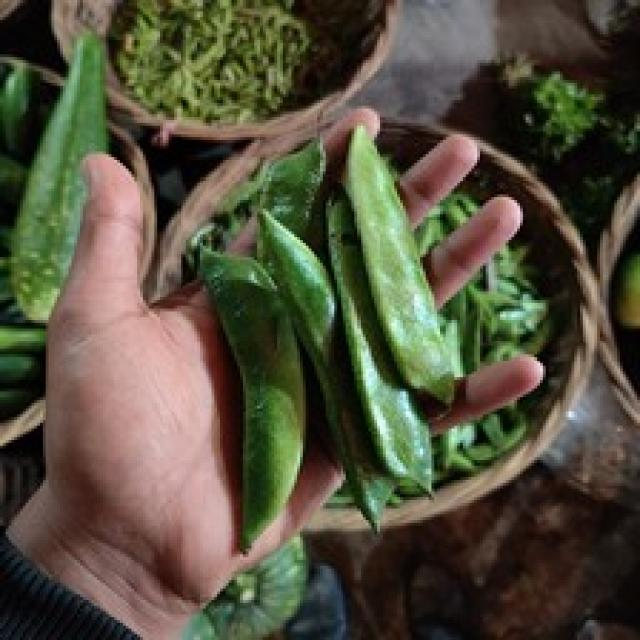Bean: (183, 117, 543, 552)
